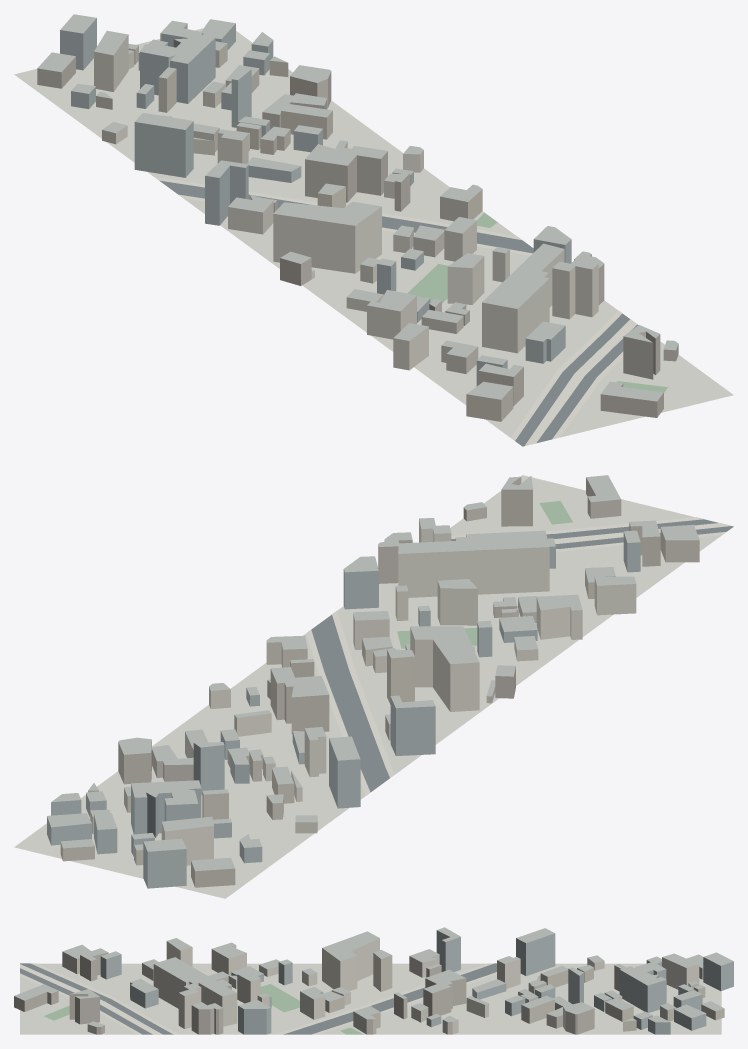
3 renders of one model, top to bottom at view 1: azimuth 30°, elevation 25°; view 2: azimuth 150°, elevation 25°; view 3: azimuth 270°, elevation 25°, orthographic. The views are drawn at different scales.
Parts seen in each view (by area): view 1: city; view 2: city; view 3: city.
Part boxes in pixels (x1=…): city: x1=14, y1=14, x2=733, y2=446; city: x1=14, y1=475, x2=733, y2=898; city: x1=14, y1=927, x2=733, y2=1034.
Bounding box in the file's own units: 129 × 26 × 513.
